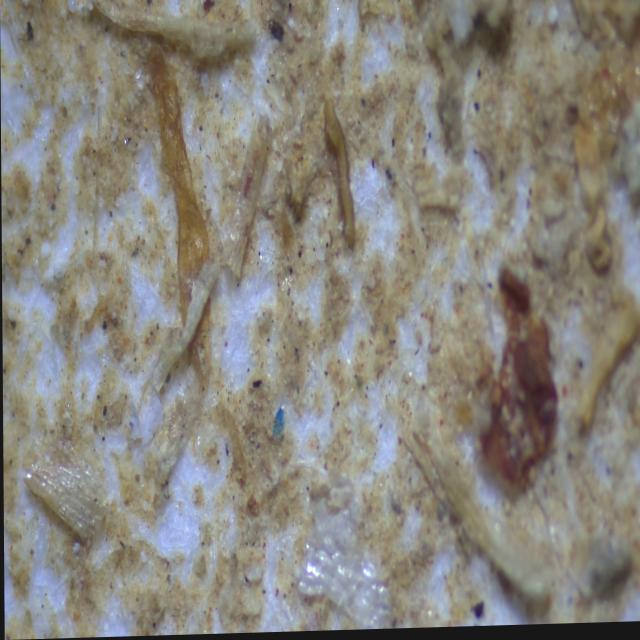microplastic: (268, 404, 289, 446)
